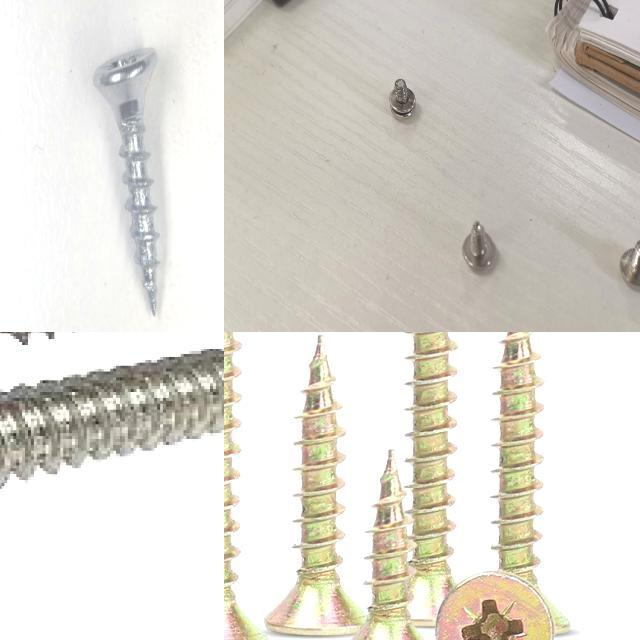Screw: (0, 348, 224, 486), (265, 336, 366, 636), (94, 47, 158, 315), (408, 332, 458, 627), (351, 450, 424, 640), (224, 332, 267, 640), (494, 332, 545, 588), (428, 568, 560, 640), (460, 218, 498, 274), (386, 74, 420, 124), (617, 236, 640, 293)
